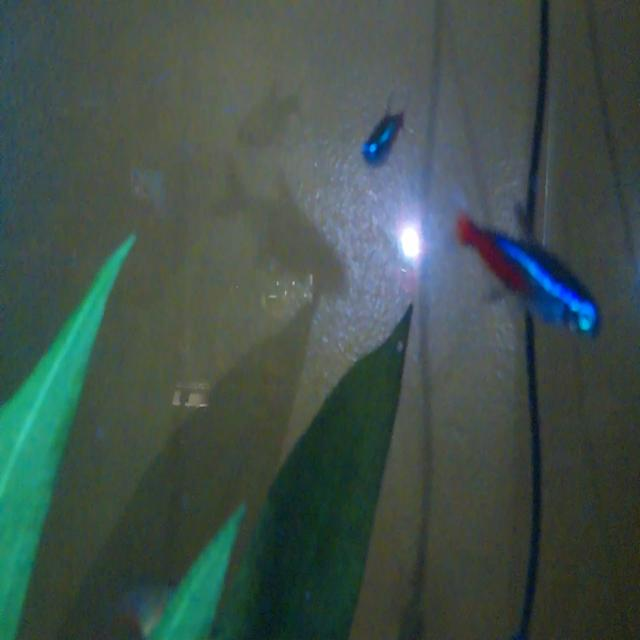fish: (450, 197, 605, 347), (356, 93, 409, 182)
